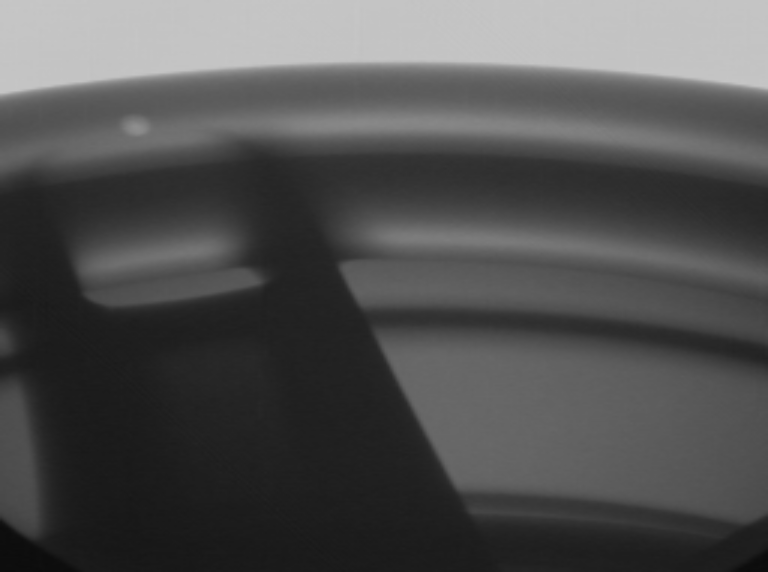defect: (114, 109, 162, 145)
